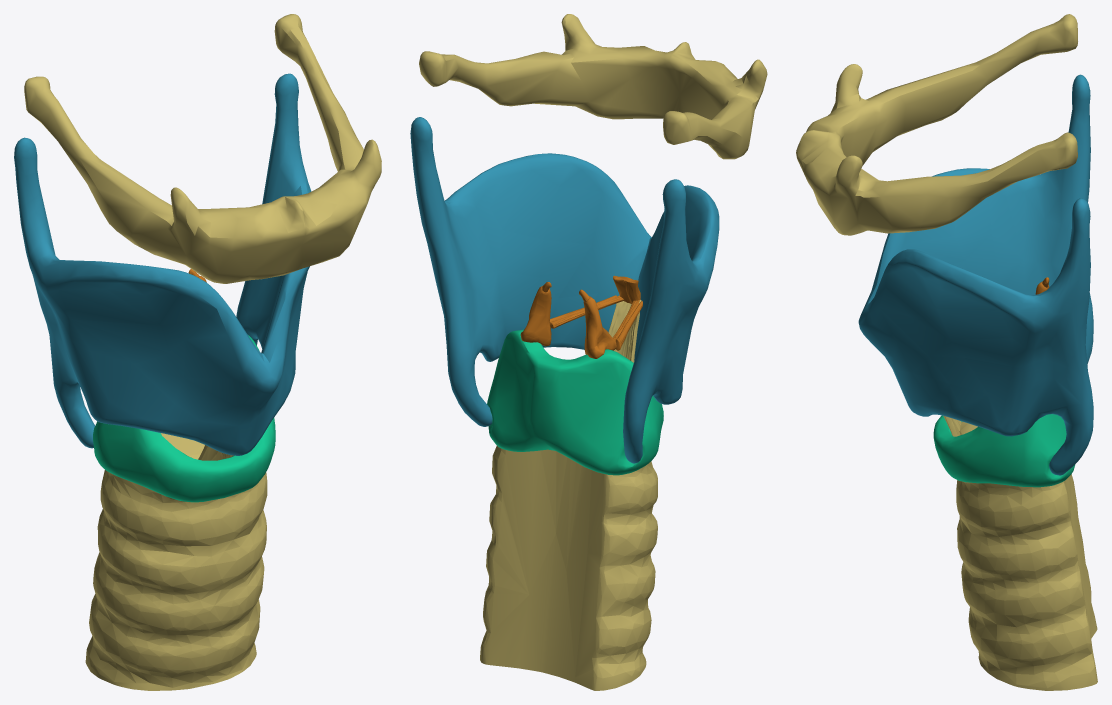
Rendered from fbx_frame_0023.obj.
3 renders of one model, left to right at view 1: azimuth 30°, elevation 25°; view 2: azimuth 150°, elevation 25°; view 3: azimuth 270°, elevation 25°, orthographic. The views are drawn at different scales.
Parts seen in each view (by area): view 1: maya2sketchfab.010, maya2sketchfab.001, maya2sketchfab.011, maya2sketchfab.005; view 2: maya2sketchfab.010, maya2sketchfab.001, maya2sketchfab.011, maya2sketchfab.005, maya2sketchfab.006, maya2sketchfab.004, maya2sketchfab.009, maya2sketchfab.008, maya2sketchfab.007; view 3: maya2sketchfab.010, maya2sketchfab.001, maya2sketchfab.011, maya2sketchfab.005.
Boxes of the visible parts, x1=… form: maya2sketchfab.010: x1=14, y1=73, x2=311, y2=455; maya2sketchfab.001: x1=85, y1=433, x2=267, y2=690; maya2sketchfab.011: x1=24, y1=14, x2=381, y2=283; maya2sketchfab.005: x1=93, y1=335, x2=275, y2=502; maya2sketchfab.010: x1=410, y1=117, x2=719, y2=463; maya2sketchfab.001: x1=480, y1=300, x2=657, y2=690; maya2sketchfab.011: x1=419, y1=14, x2=767, y2=159; maya2sketchfab.005: x1=487, y1=329, x2=663, y2=475; maya2sketchfab.006: x1=520, y1=282, x2=551, y2=346; maya2sketchfab.004: x1=579, y1=289, x2=616, y2=358; maya2sketchfab.009: x1=550, y1=295, x2=623, y2=328; maya2sketchfab.008: x1=613, y1=300, x2=642, y2=350; maya2sketchfab.007: x1=613, y1=275, x2=640, y2=303; maya2sketchfab.010: x1=858, y1=74, x2=1093, y2=475; maya2sketchfab.001: x1=943, y1=416, x2=1097, y2=690; maya2sketchfab.011: x1=796, y1=14, x2=1077, y2=235; maya2sketchfab.005: x1=933, y1=414, x2=1075, y2=487.
Bounding box in the file's own units: 38.66 × 78.75 × 37.16.
